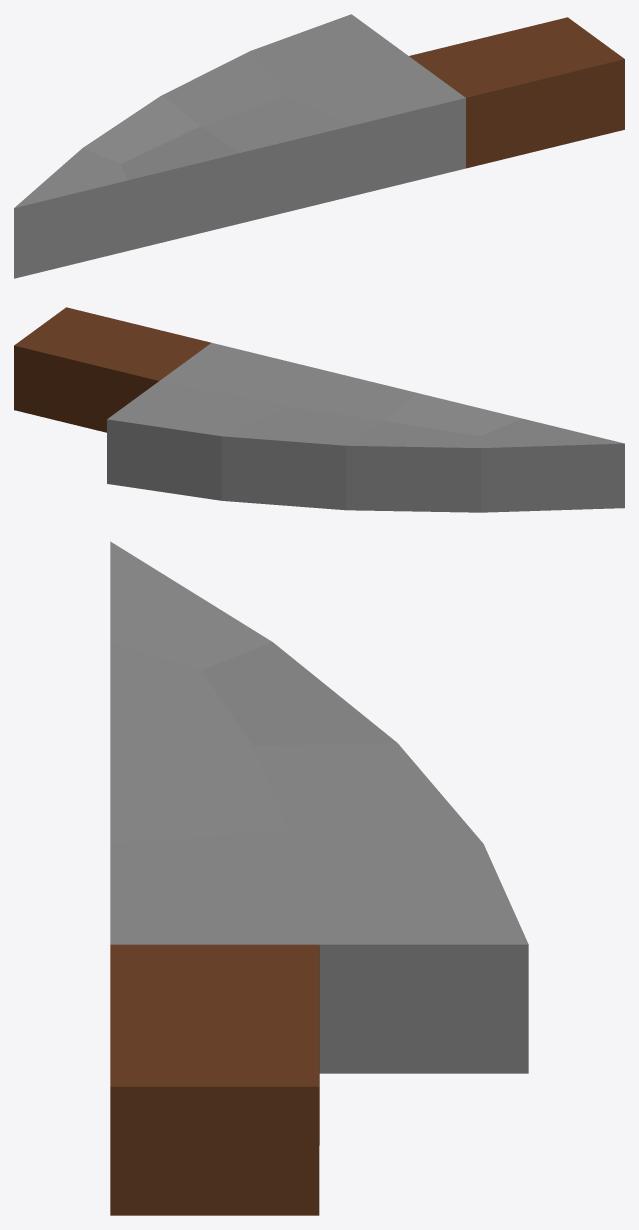
Rendered from knife.fbx.
3 renders of one model, top to bottom at view 1: azimuth 30°, elevation 25°; view 2: azimuth 150°, elevation 25°; view 3: azimuth 270°, elevation 25°, orthographic. The views are drawn at different scales.
Parts seen in each view (by area): view 1: knife; view 2: knife; view 3: knife.
Part boxes in pixels (<box>): knife: <box>14,14,624,278</box>; knife: <box>14,307,624,512</box>; knife: <box>110,541,528,1215</box>.
Size of the model in its own units: 0.5695 by 0.0629 by 0.1847.
